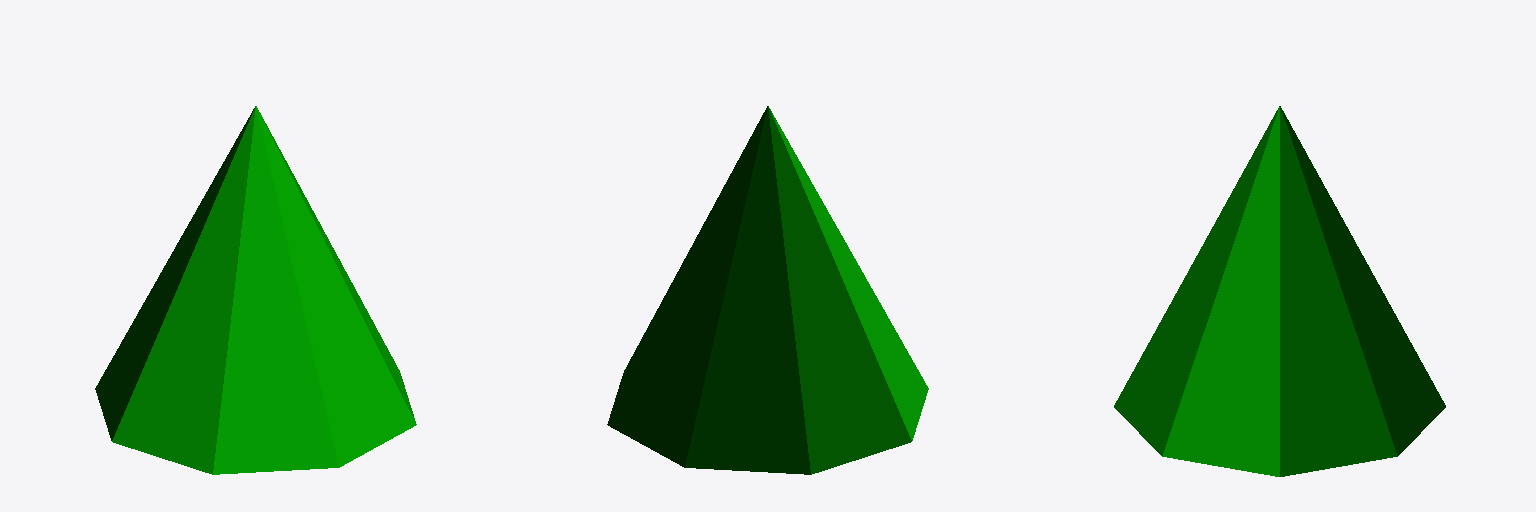
File: tree.obj
3 renders of one model, left to right at view 1: azimuth 30°, elevation 25°; view 2: azimuth 150°, elevation 25°; view 3: azimuth 270°, elevation 25°, orthographic.
Parts seen in each view (by area): view 1: Cone; view 2: Cone; view 3: Cone.
Part boxes in pixels (left/top/right/bottom): Cone: left=95, top=106, right=416, bottom=474; Cone: left=607, top=106, right=928, bottom=474; Cone: left=1114, top=106, right=1445, bottom=476.
Size of the model in its own units: 9 by 9 by 9.